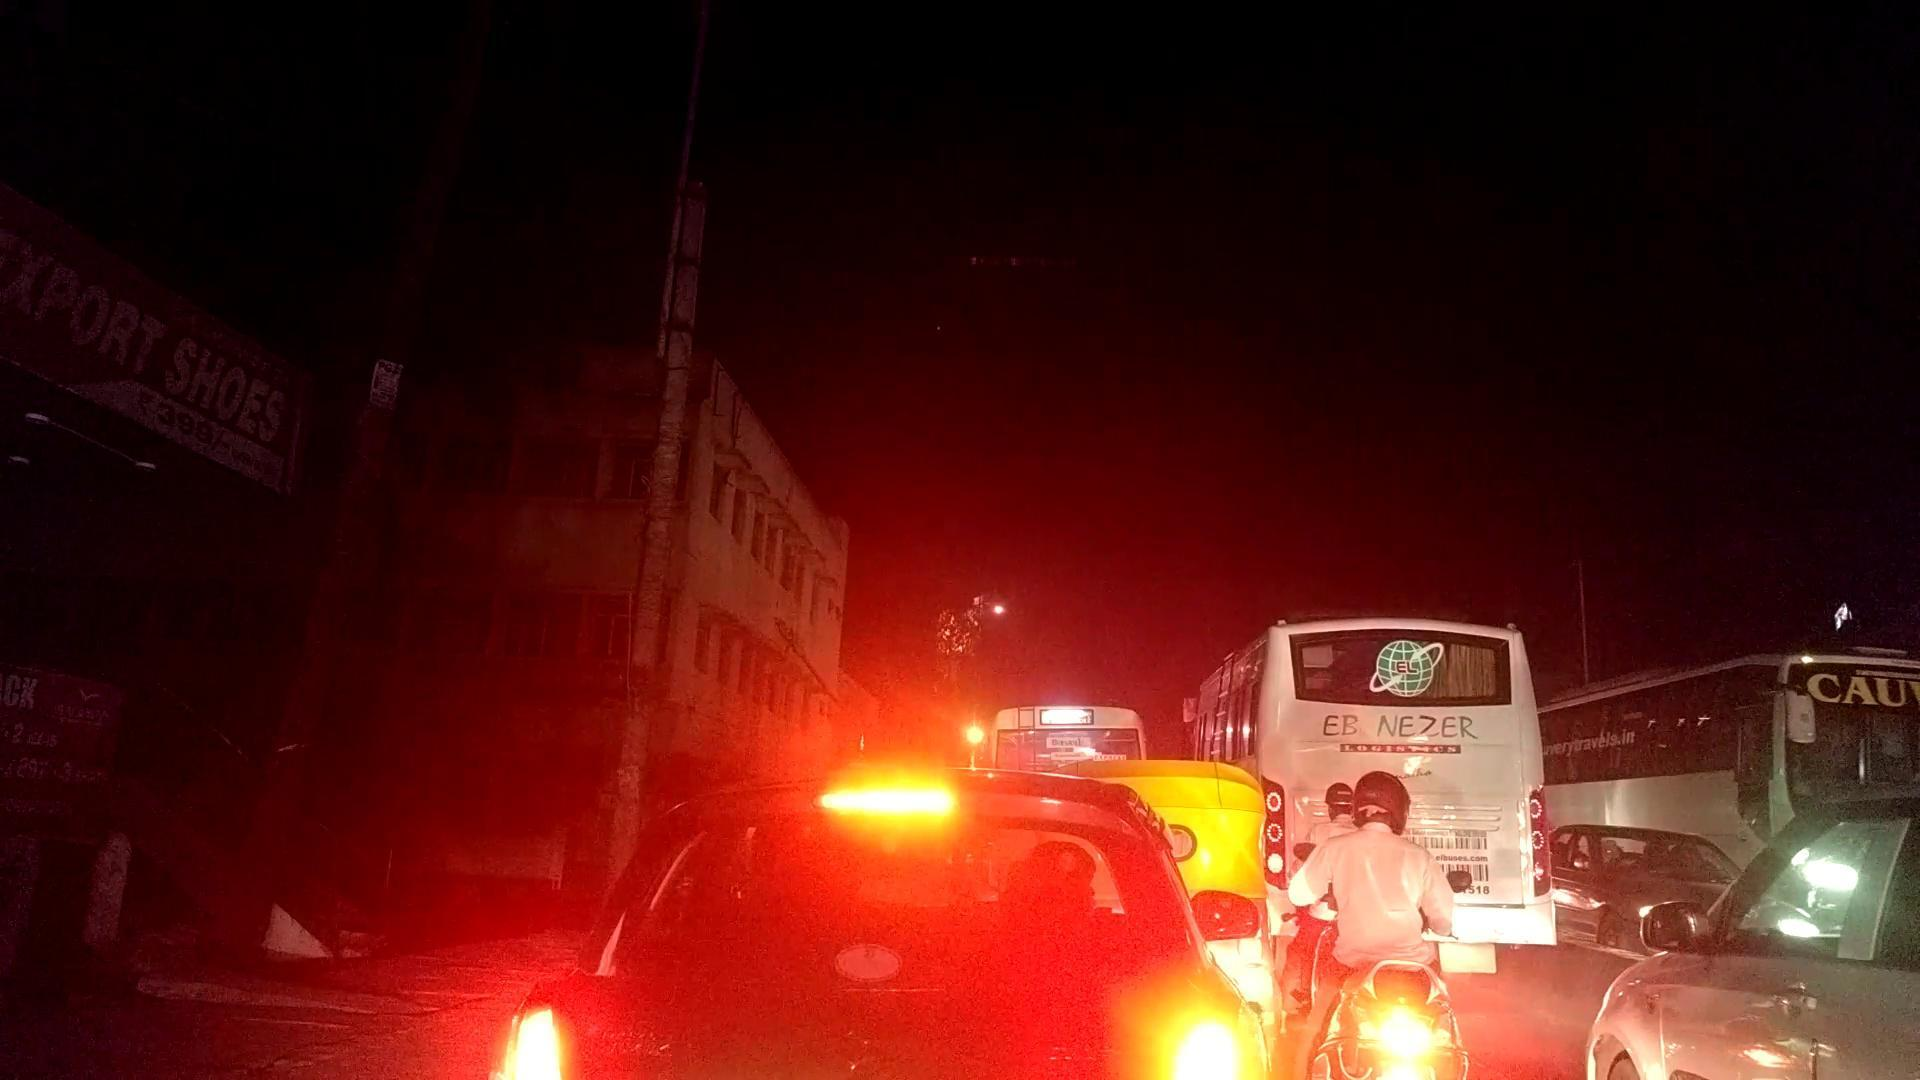on: (1619, 682, 1920, 1067)
